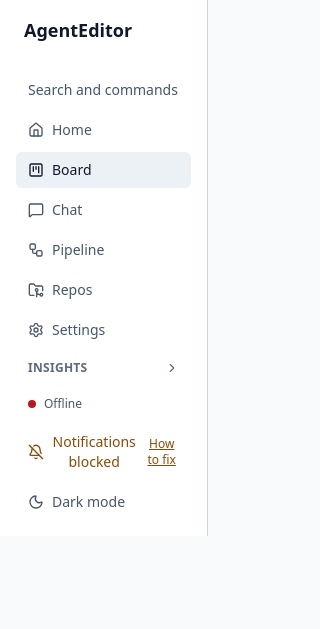
Test: NavSidebar › shows Home always and keeps Insights links inside a collapsed group
Check: the link "Cost & Usage" is not shown
What coordinates should you click on to do the following:
click the button "Insights"
I would click on:
 (104, 368)
Its box is [16,352,191,384].
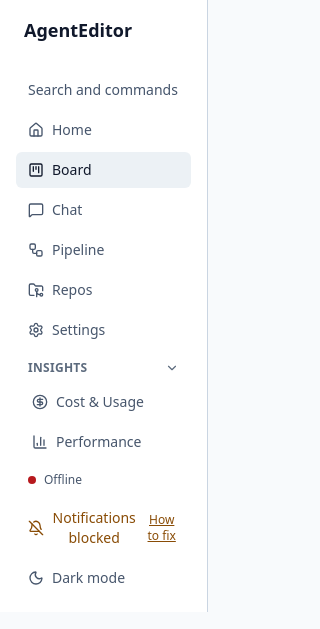
Check: the button "Insights" is expanded, box [16,352,191,384]
Check: the link "Cost & Usage" is shown, box [32,392,144,411]
Check: the link "Performance" is shown, box [32,432,141,451]
